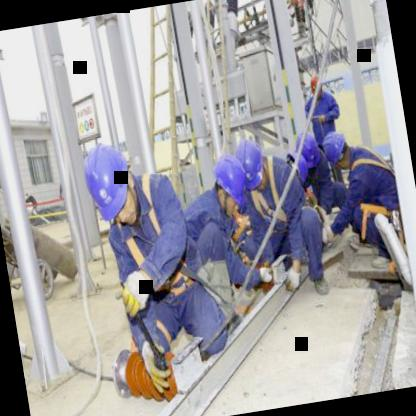helmet: (74, 133, 140, 230), (208, 152, 252, 216), (230, 128, 270, 188), (293, 124, 323, 176), (319, 129, 352, 174), (281, 147, 310, 187), (304, 70, 326, 98)
